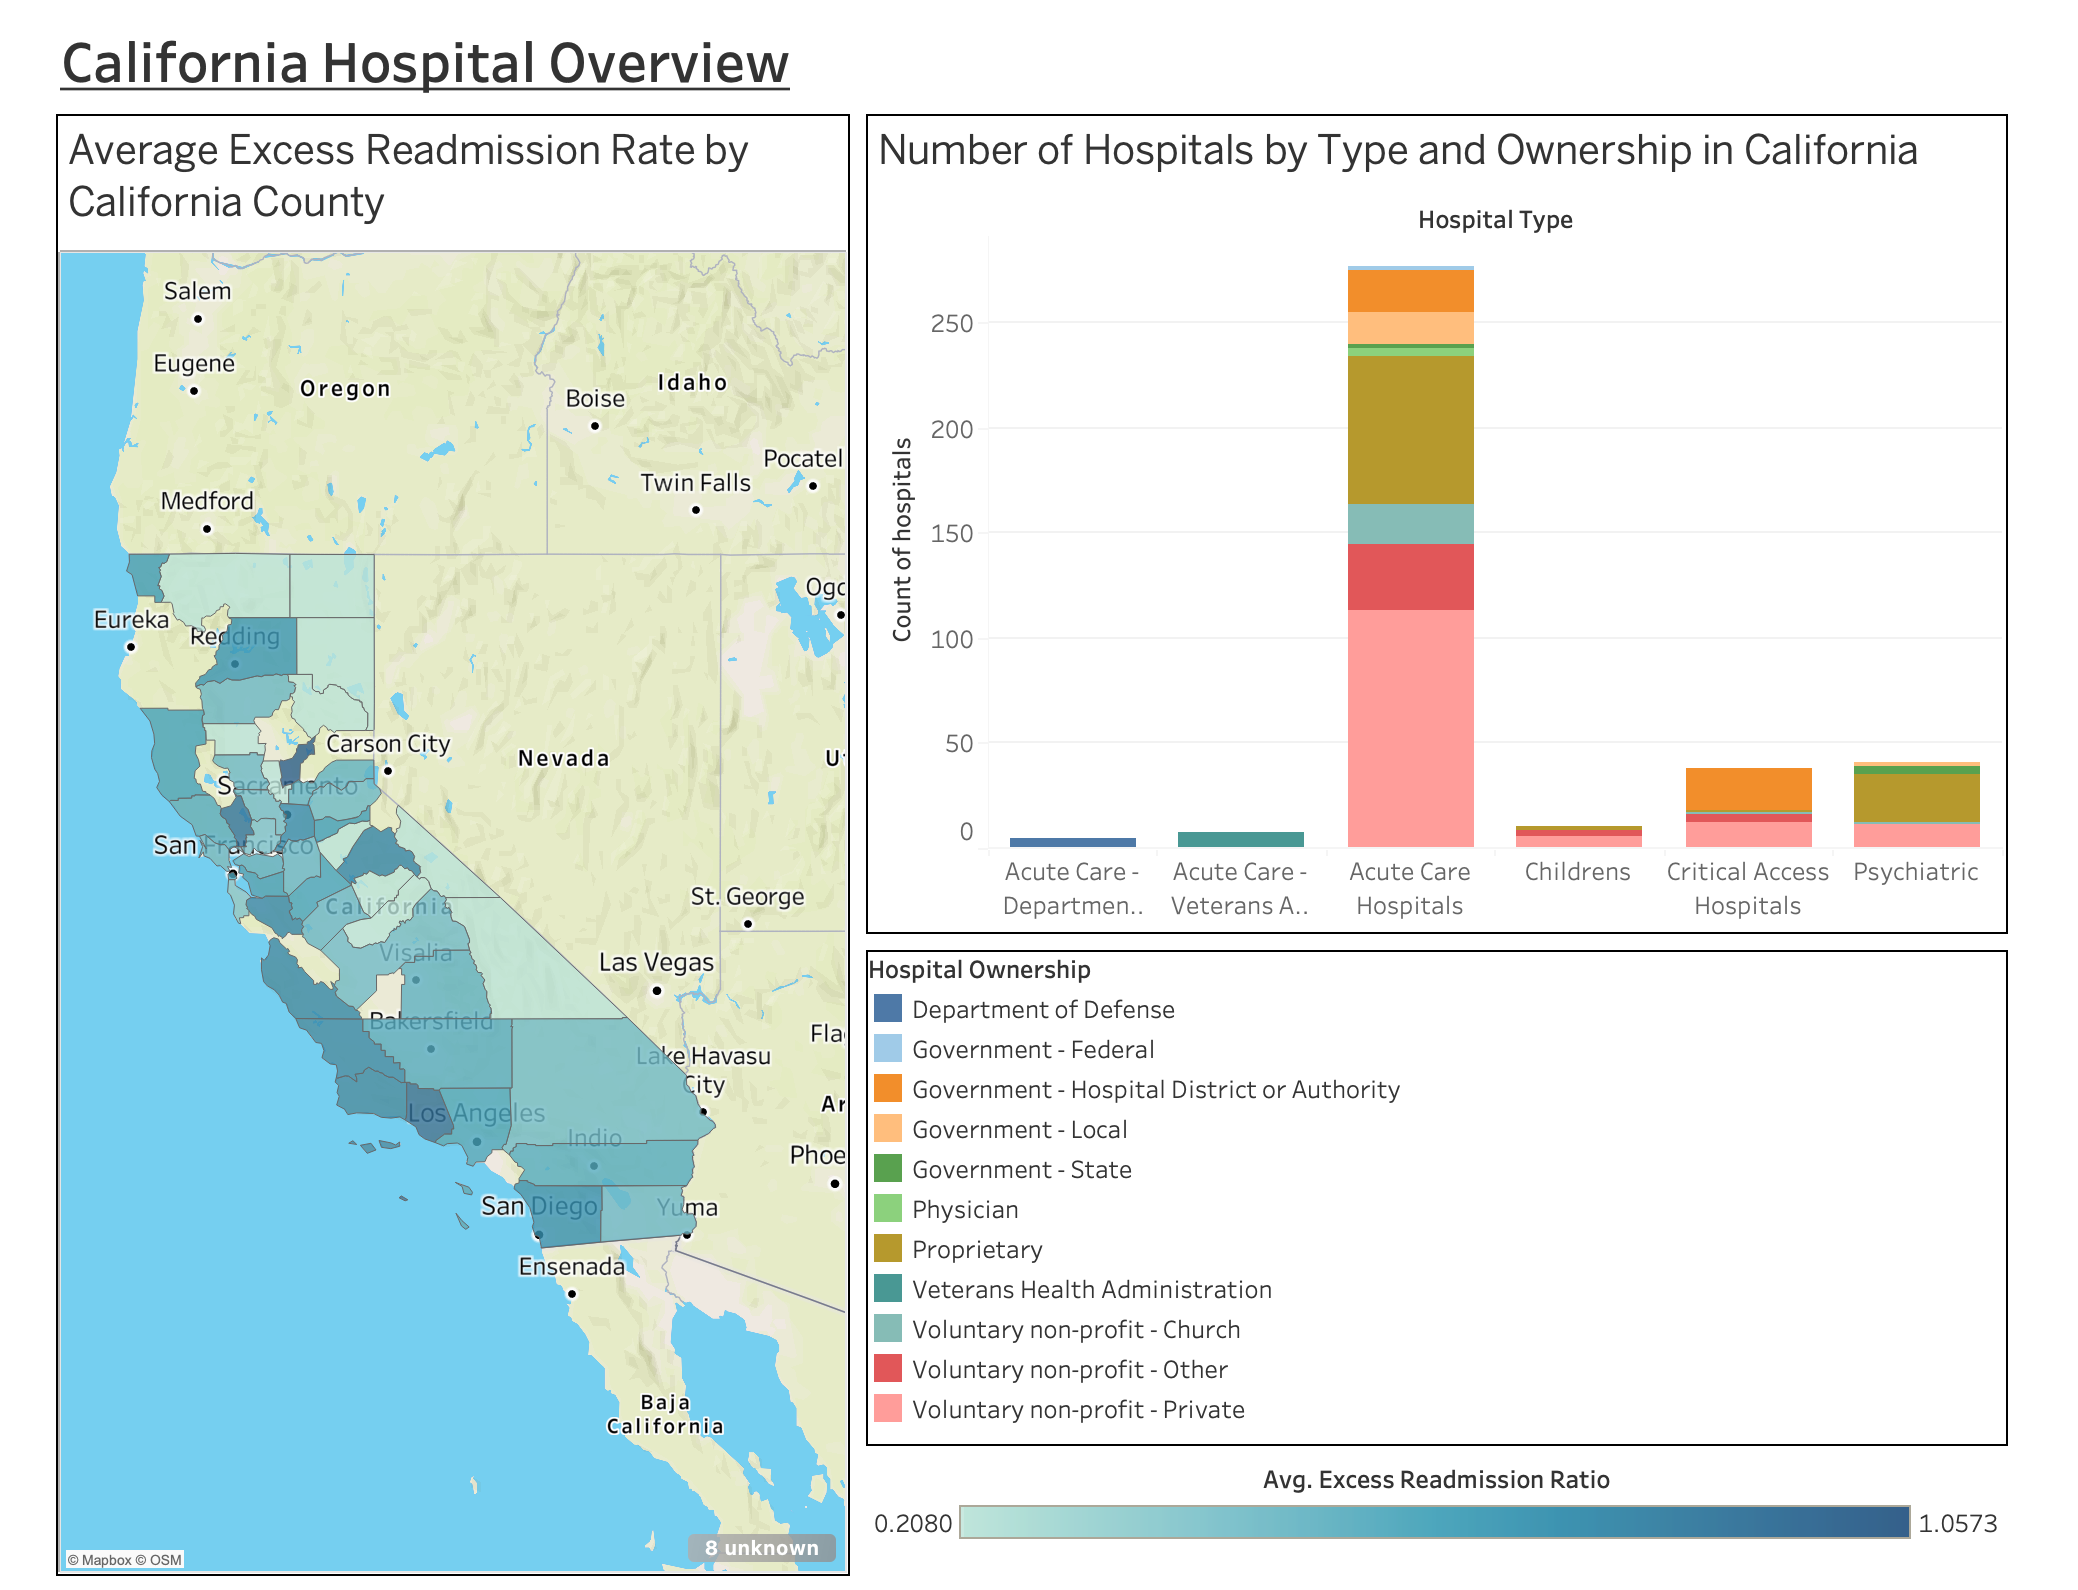

The page's visual inventory and layout, read from the dashboard file:
{"tool":"tableau","page":{"name":"California Hospital Overview","canvas":[1000,800],"ordinal":0},"visuals":[{"type":"title","box":[8,8,984,45]},{"type":"worksheet","title":"California Map","mark":"Automatic","box":[8,53,405,739]},{"type":"worksheet","title":"Number of Hospitals by Type","mark":"Automatic","rows":["hospitals_EFF554BD368D499C993BA04378A28210"],"cols":["hospital_type"],"box":[413,53,579,418]},{"type":"legend","title":"Number of Hospitals by Type","param":"[federated.1n80vnm0btl2rx1c5597k0s7f1we].[none:hospital_ownership:nk]","box":[413,471,579,256]},{"type":"legend","title":"California Map","param":"[federated.1n80vnm0btl2rx1c5597k0s7f1we].[avg:excess_readmission_ratio:qk]","box":[413,727,579,65]}]}

Visuals, with their boxes on the page's 1000x800 design canvas (x1, y1, x2, y2). These are canvas units, not pixel positions in the 2078x1590 screenshot, which may show the page scaled, cropped or inside an application window:
title: <region>8, 8, 992, 53</region>
"California Map" worksheet: <region>8, 53, 413, 792</region>
"Number of Hospitals by Type" worksheet: <region>413, 53, 992, 471</region>
"Number of Hospitals by Type" legend: <region>413, 471, 992, 727</region>
"California Map" legend: <region>413, 727, 992, 792</region>
